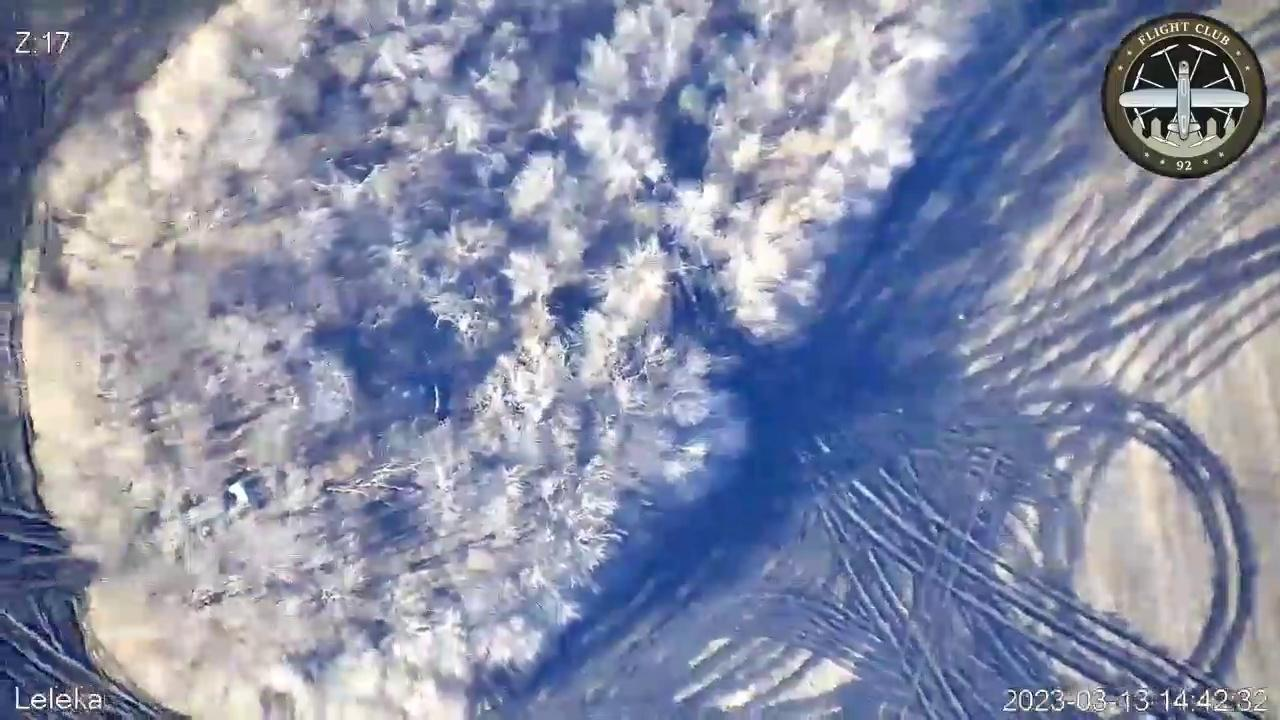vehicle: (223, 476, 255, 515)
